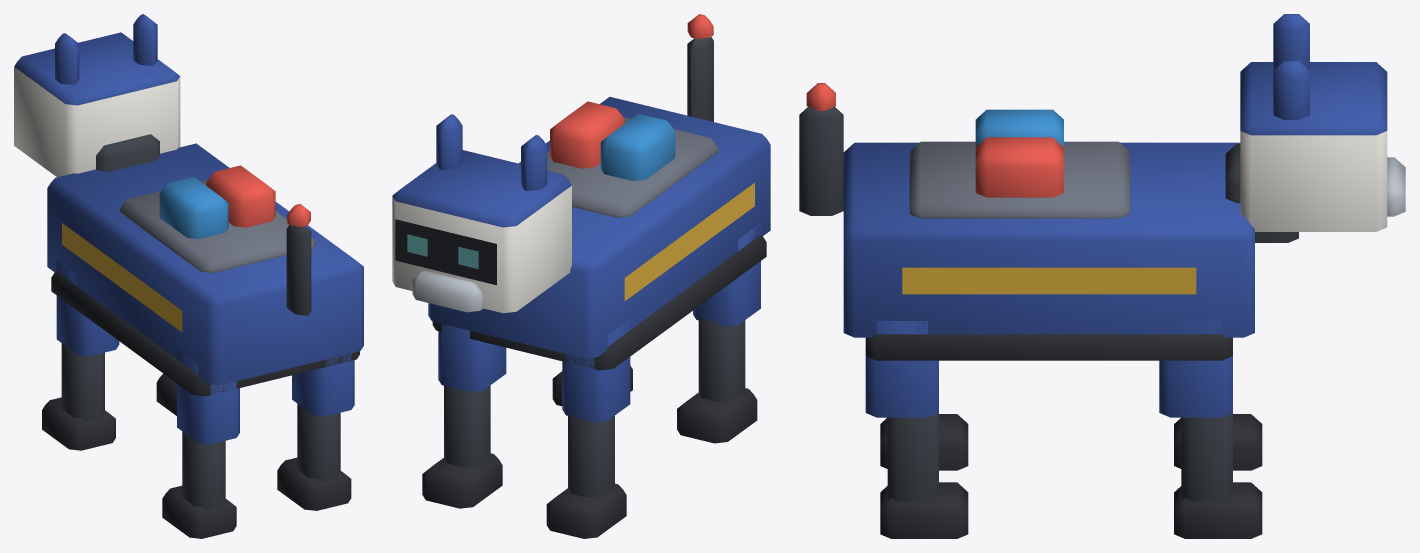
File: H_RobotDog.fbx
3 views of the same model, side by side, from view 1: azimuth 30°, elevation 25°; view 2: azimuth 150°, elevation 25°; view 3: azimuth 270°, elevation 25° (orthographic). The views are drawn at different scales.
Visible parts, largest first — view 1: H_RobotDog; view 2: H_RobotDog; view 3: H_RobotDog.
Part boxes in pixels (left/top/right/bottom): H_RobotDog: left=14, top=14, right=363, bottom=538; H_RobotDog: left=392, top=14, right=770, bottom=538; H_RobotDog: left=799, top=14, right=1405, bottom=538.
Size of the model in its own units: 0.32 by 0.68 by 0.825.
1 material, 1 textured.
